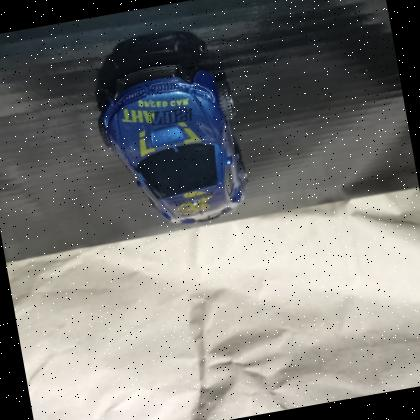Car: (85, 46, 261, 241)
